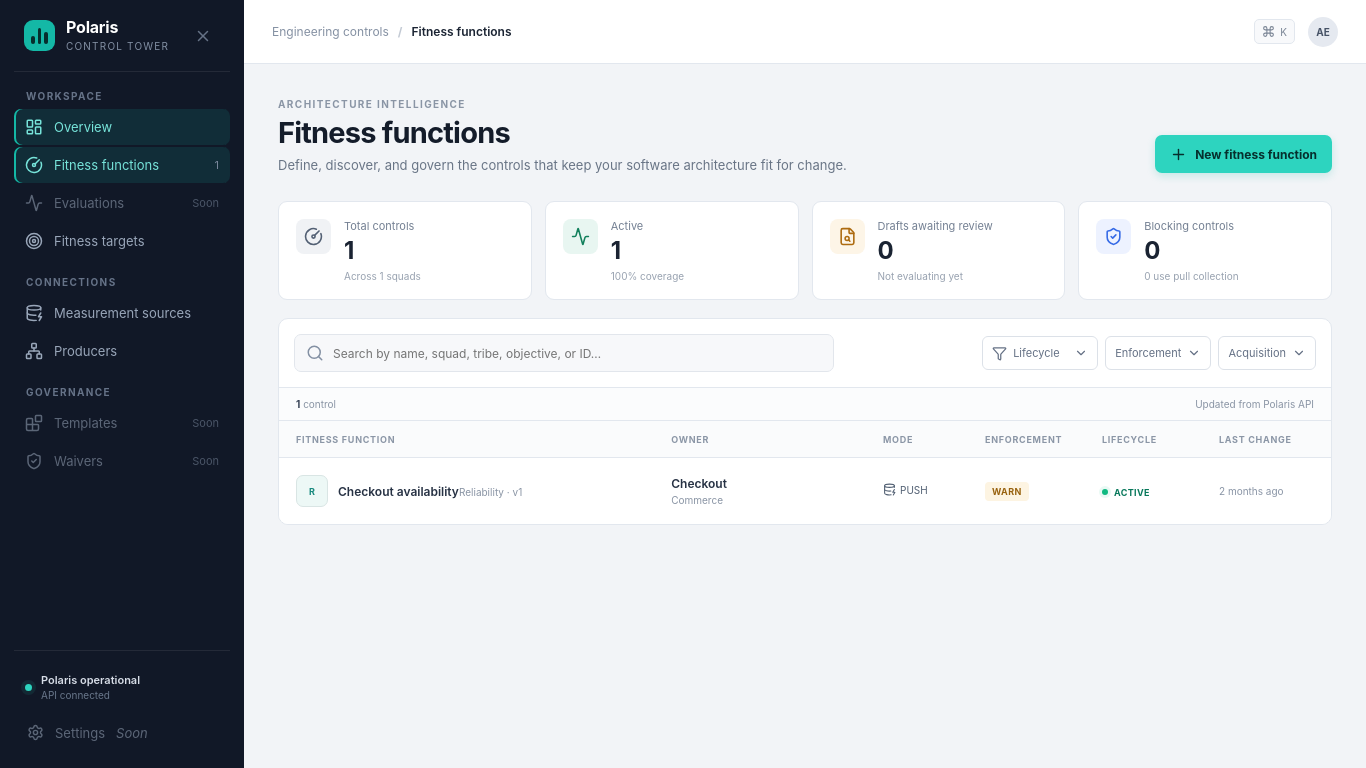
Test: Polaris control tower › filters by lifecycle, enforcement, and acquisition
Expected: the text "Checkout availability" is shown, [338,484,459,498]
Select "DRAFT" in the dropdown labelled "Lifecycle". click: x=1040, y=353
box: [982,336,1098,370]
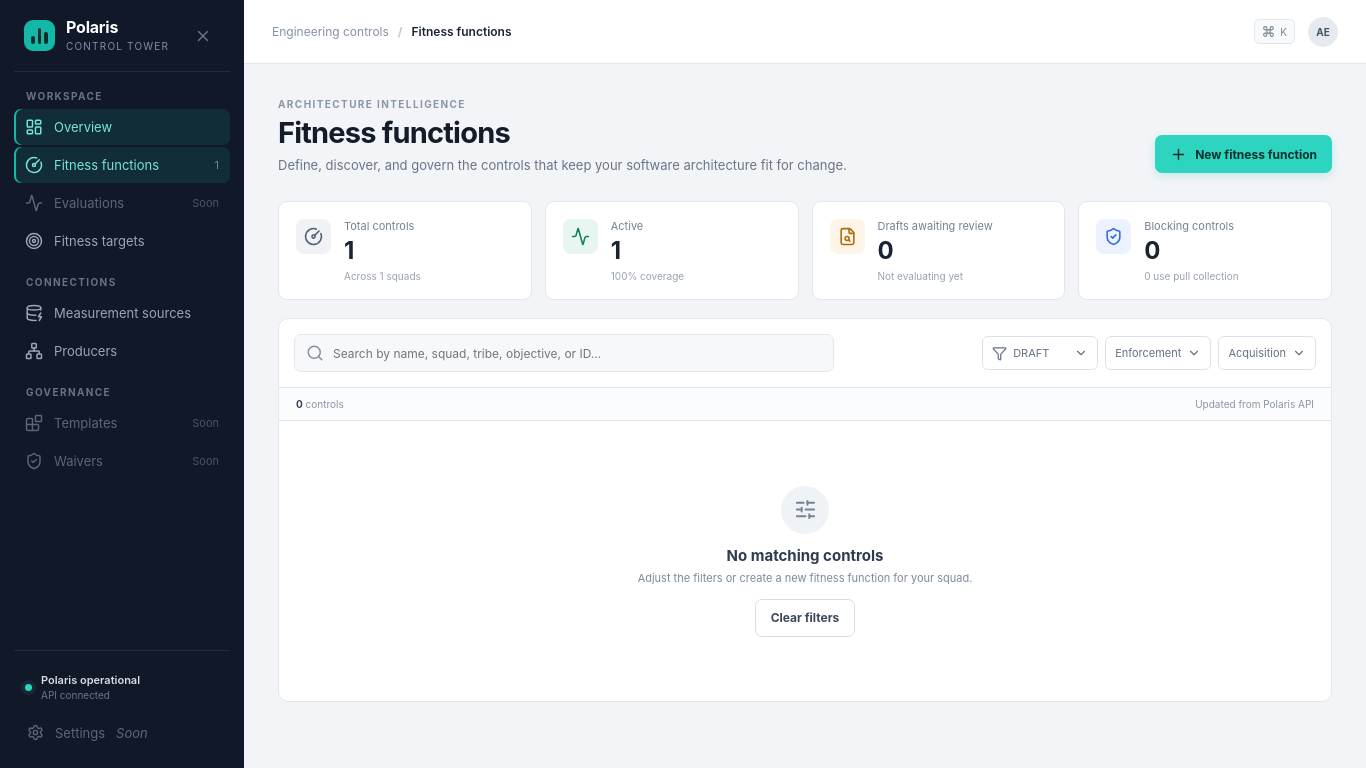
Expected: the heading "No matching controls" is shown, [727,546,883,564]
Click the button "Clear filters". click: x=805, y=618
box: [755,598,855,636]
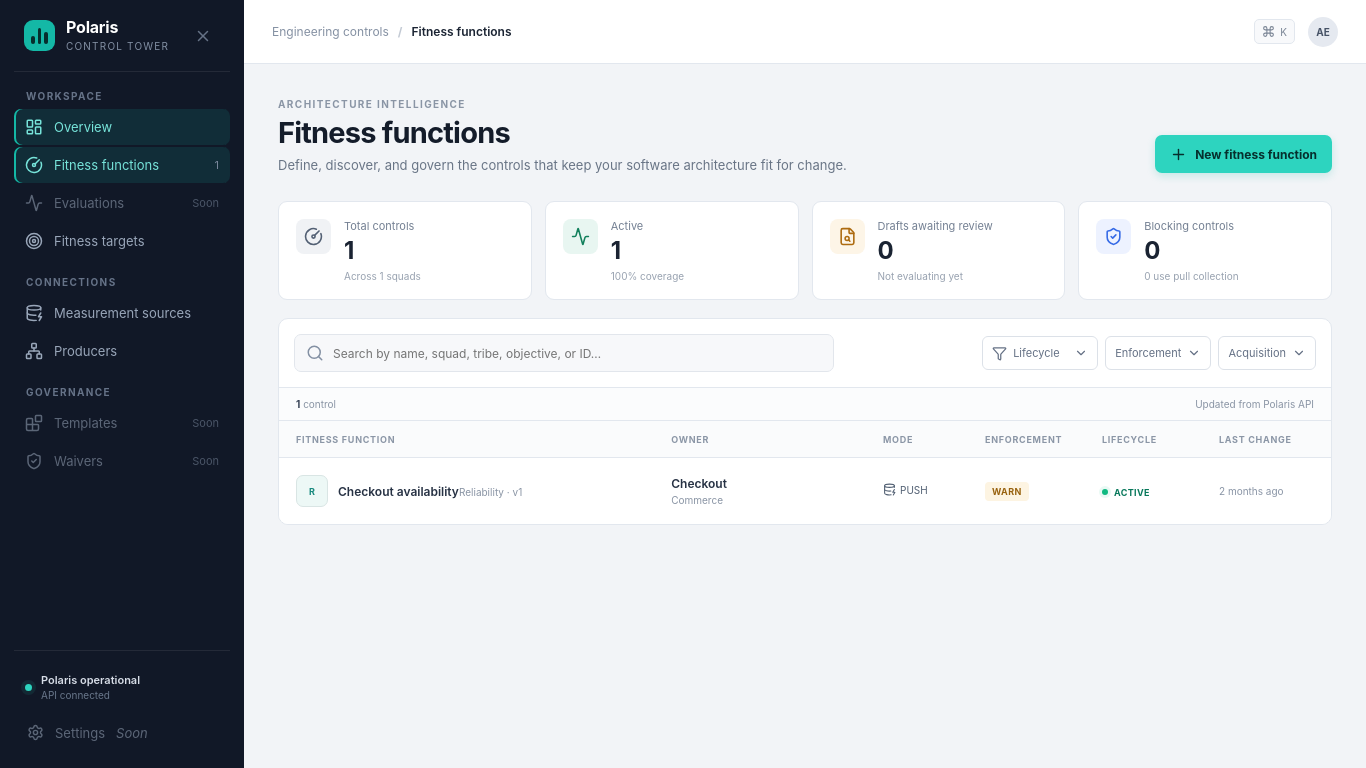
Expected: the text "Checkout availability" is shown, [338,484,459,498]
Select "BLOCK" in the dropdown labelled "Enforcement". click: x=1158, y=353
box: [1105,336,1211,370]
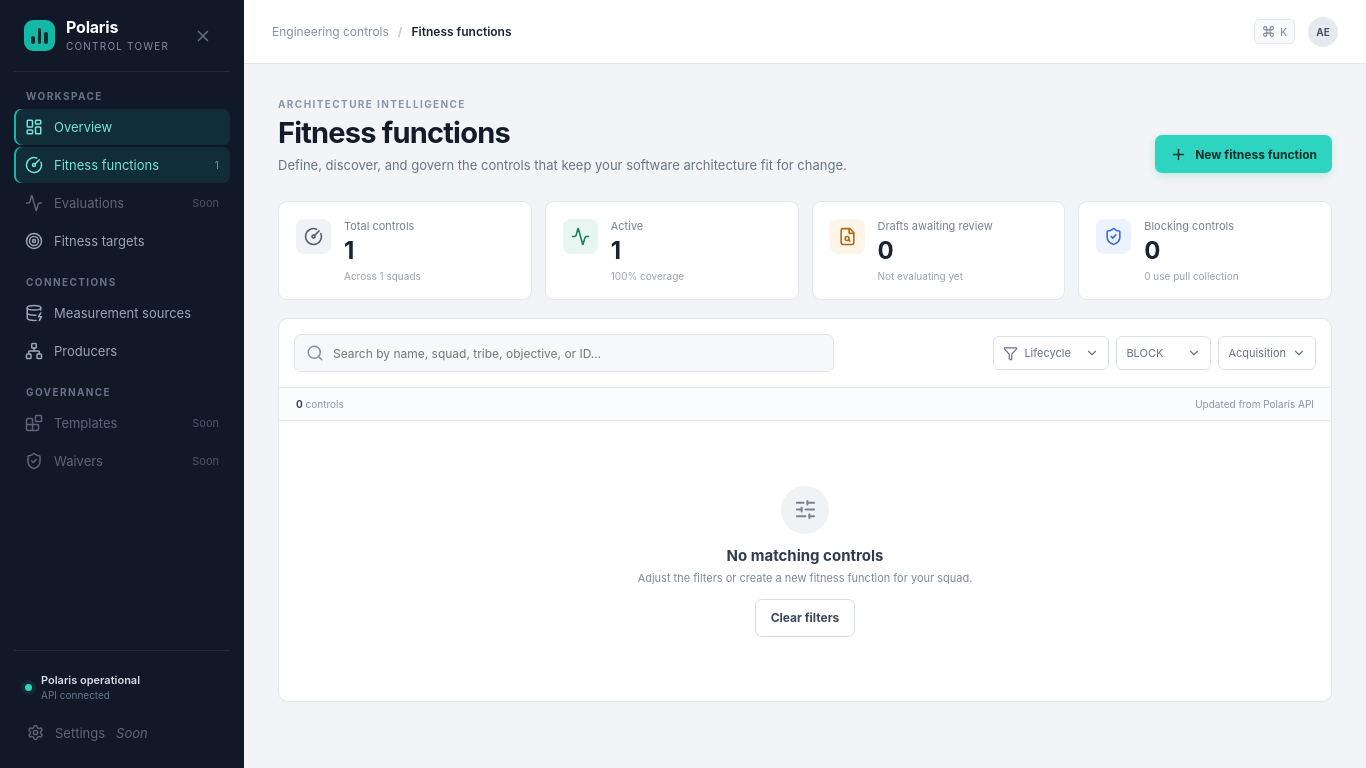
Expected: the heading "No matching controls" is shown, [727,546,883,564]
Select "WARN" in the dropdown named "Enforcement". click: x=1164, y=353
box: [1116,336,1211,370]
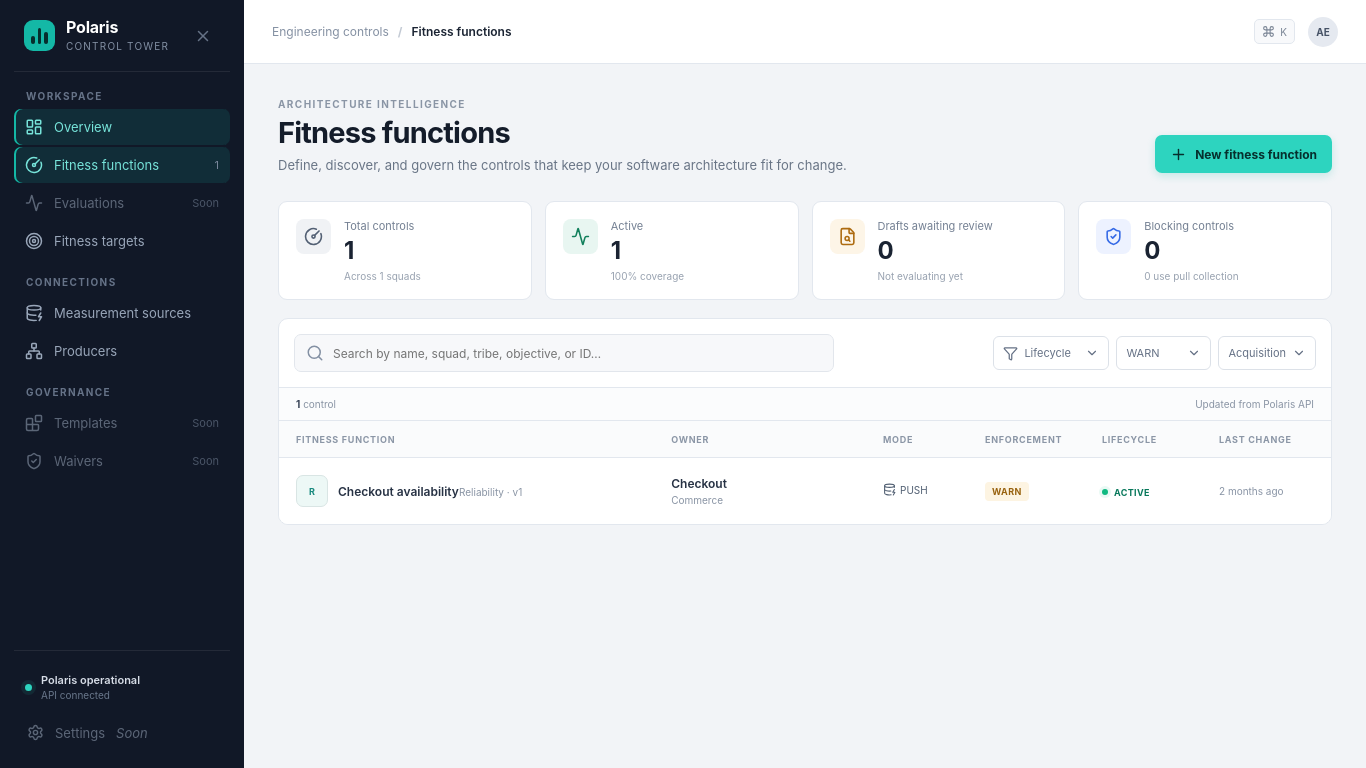
Expected: the text "Checkout availability" is shown, [338,484,459,498]
Select "PULL" in the dropdown labelled "Acquisition". click: x=1267, y=353
box: [1218,336,1316,370]
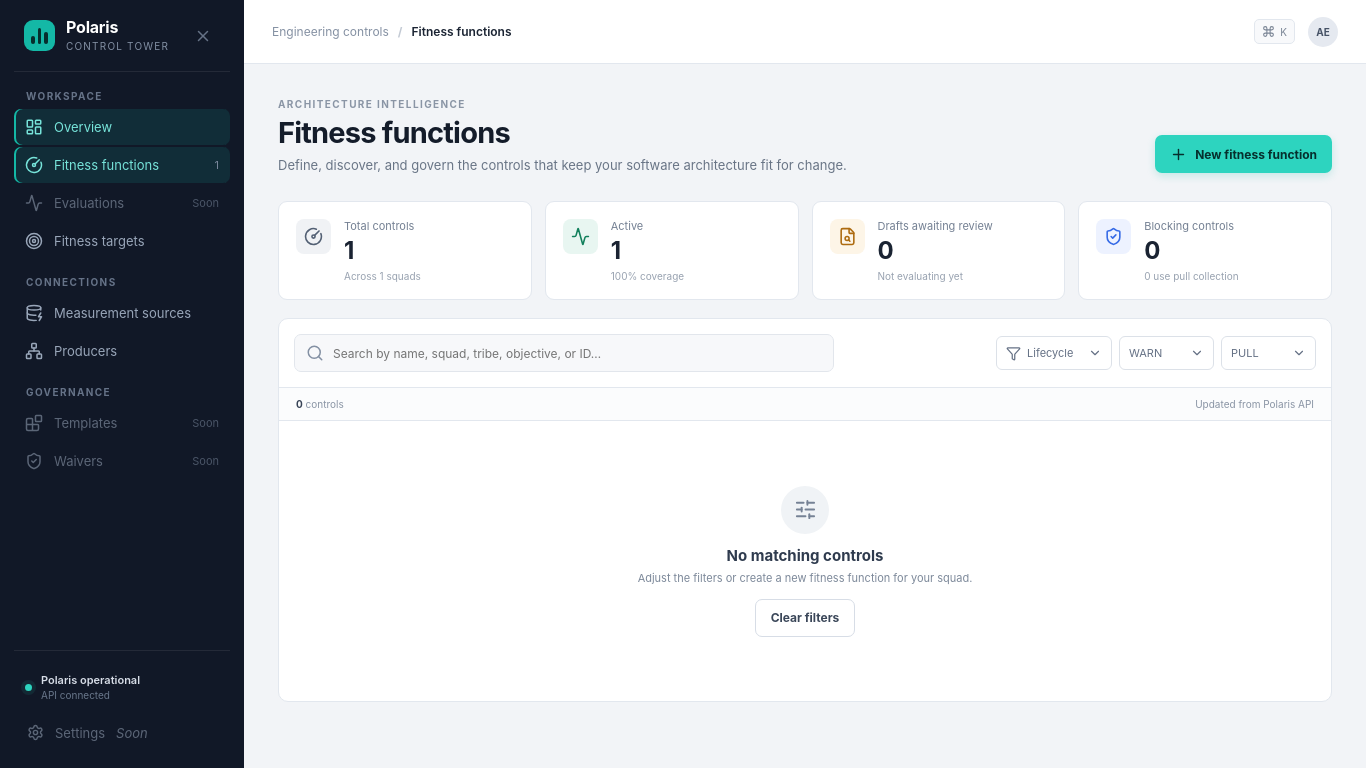
Expected: the heading "No matching controls" is shown, [727,546,883,564]
Select "PUSH" in the dropdown named "Acquisition". click: x=1268, y=353
box: [1221,336,1316,370]
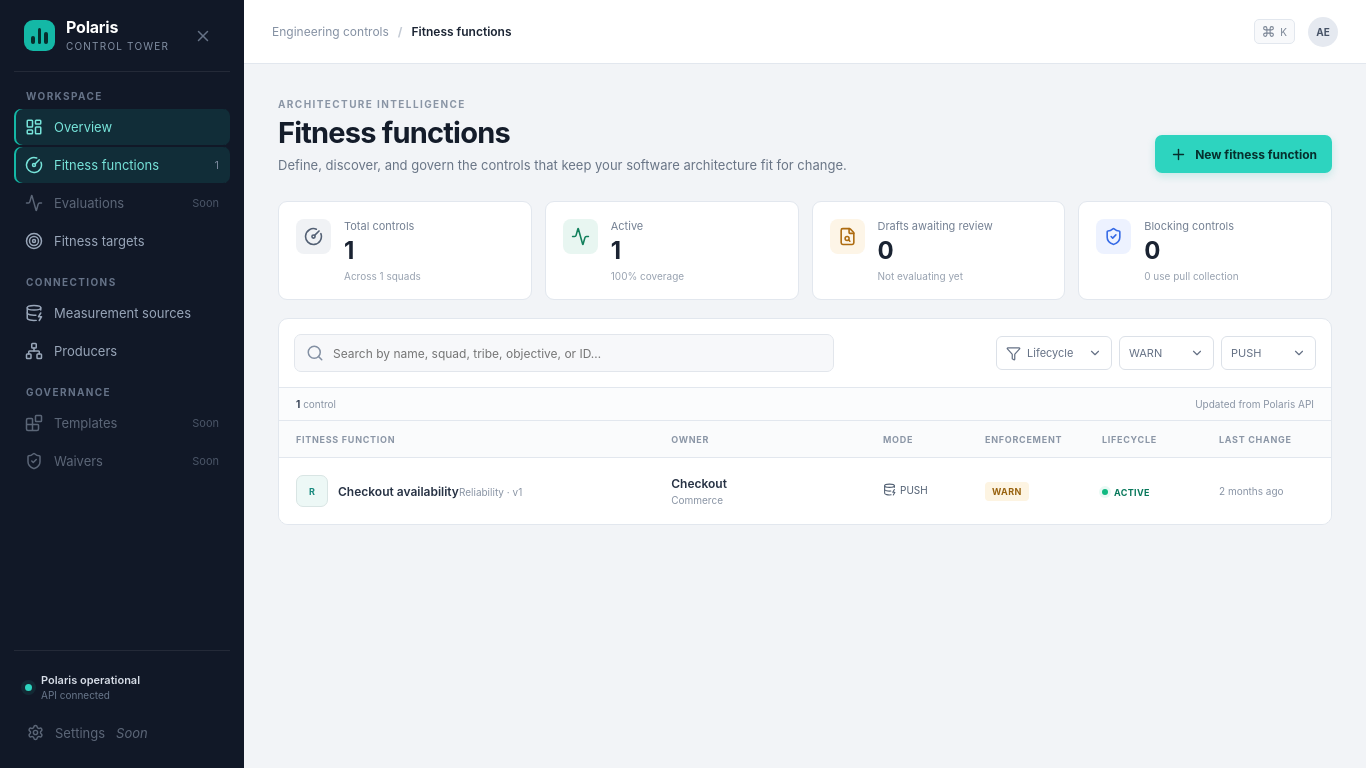
Expected: the text "Checkout availability" is shown, [338,484,459,498]
